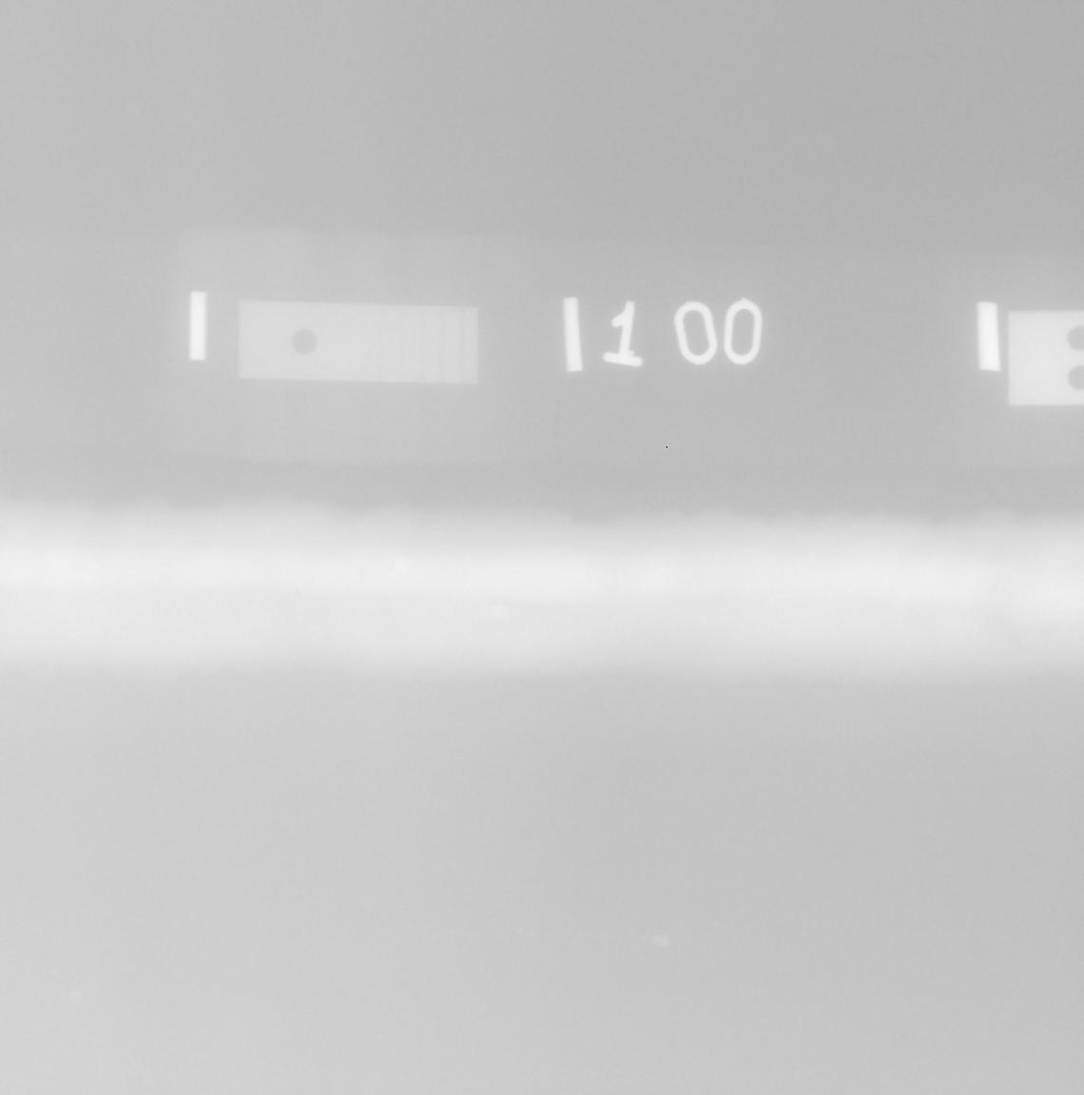Pore/Porosity: (992, 585, 999, 591), (294, 591, 301, 597), (361, 572, 366, 577)
Reference Standard 1: (240, 300, 478, 385)
